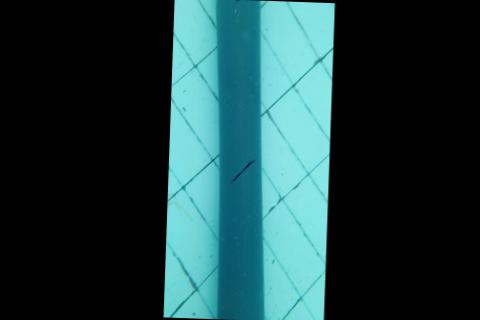keretakan: (228, 156, 257, 187)
